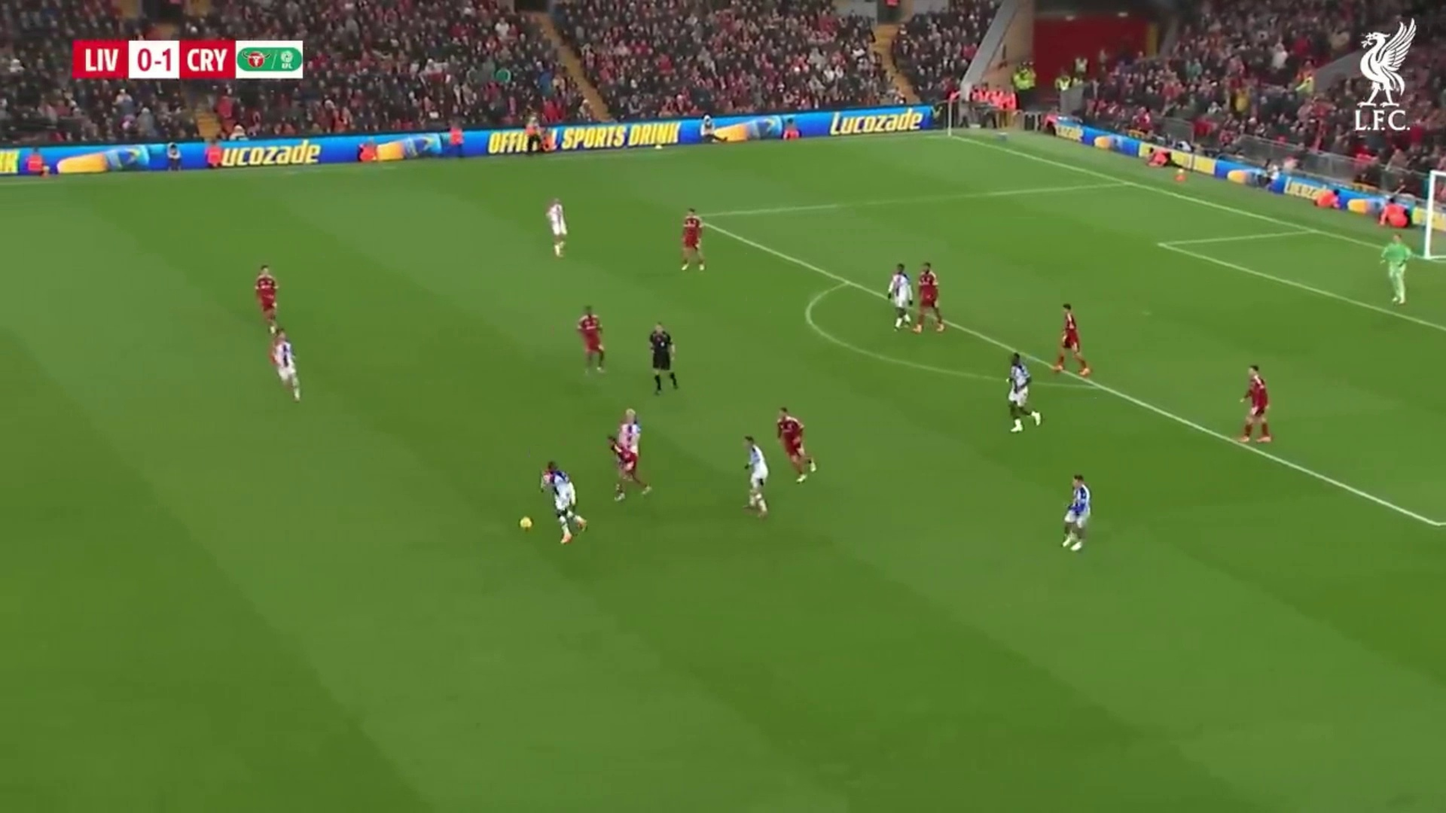player: (254, 266, 303, 404), (607, 407, 651, 503), (542, 461, 585, 547), (1379, 218, 1418, 306), (1051, 303, 1091, 381), (610, 407, 644, 492), (1006, 351, 1040, 432), (777, 409, 814, 482), (1059, 473, 1092, 554), (1240, 363, 1271, 443), (1382, 223, 1411, 306), (742, 435, 770, 517), (648, 323, 678, 394), (887, 263, 918, 331), (578, 306, 608, 376), (271, 329, 299, 401), (679, 210, 708, 274), (918, 264, 941, 333), (547, 198, 568, 260)
